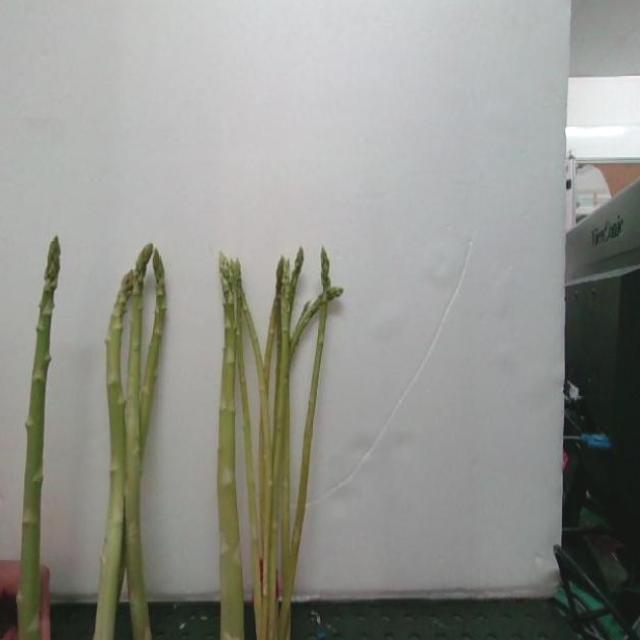aspargus: (93, 243, 167, 640), (16, 236, 61, 640)
